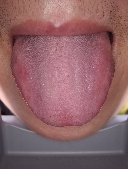tongue: (9, 38, 116, 127)
